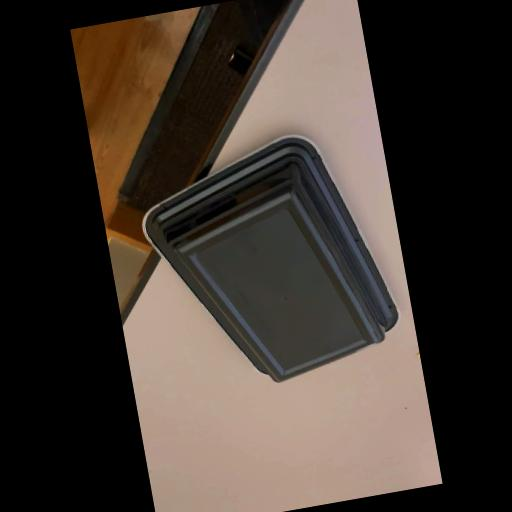rigid_plastic_container: (137, 132, 402, 396)
